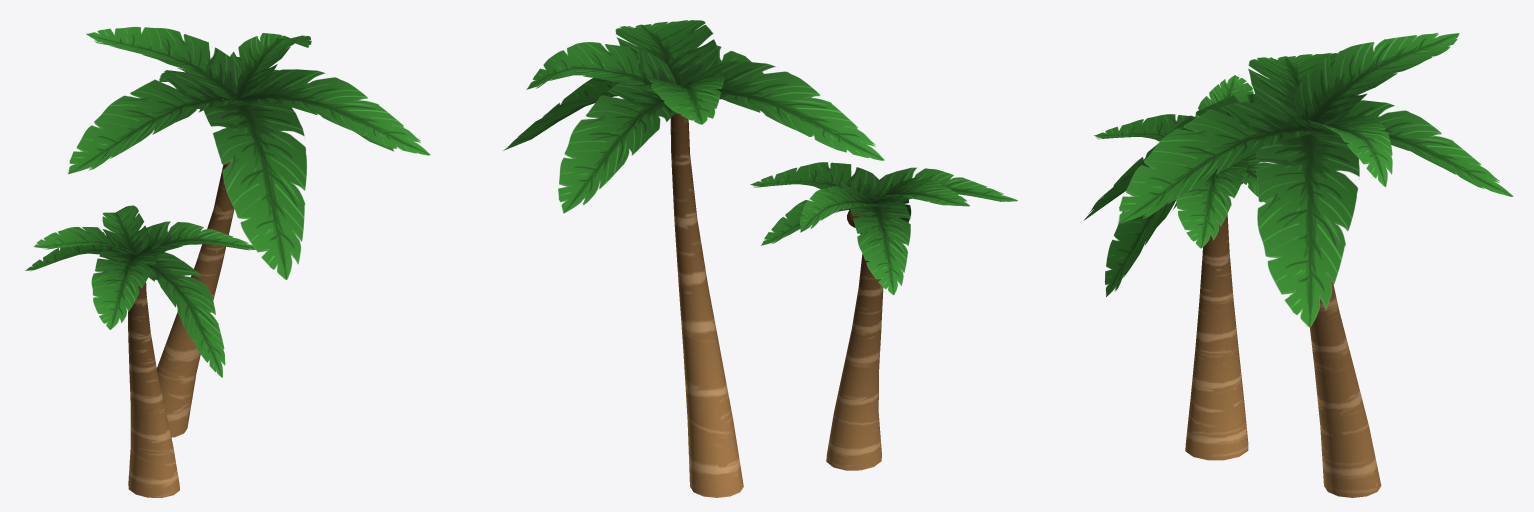
File: palm_tree.glb
The picture shows the model from 3 angles, left to right: view 1: azimuth 30°, elevation 25°; view 2: azimuth 150°, elevation 25°; view 3: azimuth 270°, elevation 25°; orthographic projection. The views are drawn at different scales.
Visible parts, largest first — view 1: leave3 (×2), leave4 (×2), leave2 (×2), tree2, leave6 (×2), tree1, leave7 (×2), leave5; view 2: tree1, leave5 (×2), leave4 (×2), tree2, leave2 (×2), leave7 (×2), leave6 (×2), leave8 (×2); view 3: leave8 (×2), leave2 (×2), tree2, tree1, leave6 (×2), leave4 (×2), leave5, leave3 (×2), leave7.
Boxes of the visible parts, x1,y1,x2,y2 form: leave3 (×2): (145, 98, 306, 377); leave4 (×2): (67, 74, 244, 329); leave2 (×2): (136, 69, 430, 254); tree2: (128, 282, 179, 497); leave6 (×2): (33, 27, 241, 255); tree1: (157, 160, 234, 437); leave7 (×2): (102, 33, 311, 254); leave5: (25, 232, 122, 271); tree1: (670, 113, 743, 497); leave5 (×2): (558, 81, 910, 294); leave4 (×2): (686, 61, 1017, 206); tree2: (826, 253, 883, 470); leave2 (×2): (615, 20, 878, 199); leave7 (×2): (526, 42, 880, 232); leave6 (×2): (642, 71, 969, 206); leave8 (×2): (503, 78, 872, 245); leave8 (×2): (1234, 129, 1359, 327); leave2 (×2): (1118, 101, 1318, 248); tree2: (1185, 214, 1248, 460); tree1: (1310, 275, 1381, 497); leave6 (×2): (1195, 32, 1459, 129); leave4 (×2): (1093, 53, 1337, 141); leave5: (1310, 100, 1513, 196); leave3 (×2): (1083, 94, 1265, 296); leave7: (1287, 115, 1392, 186).
Bounding box in the file's own units: 15.2 × 13.64 × 12.93.
3 materials, 3 textured.
